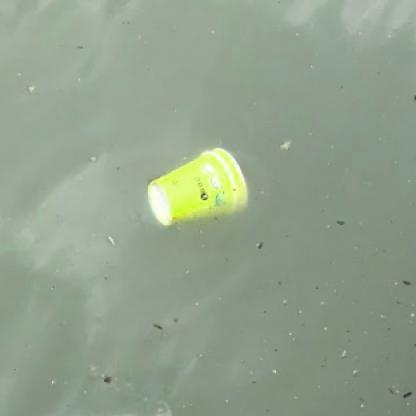Plastic: (141, 142, 251, 230)
